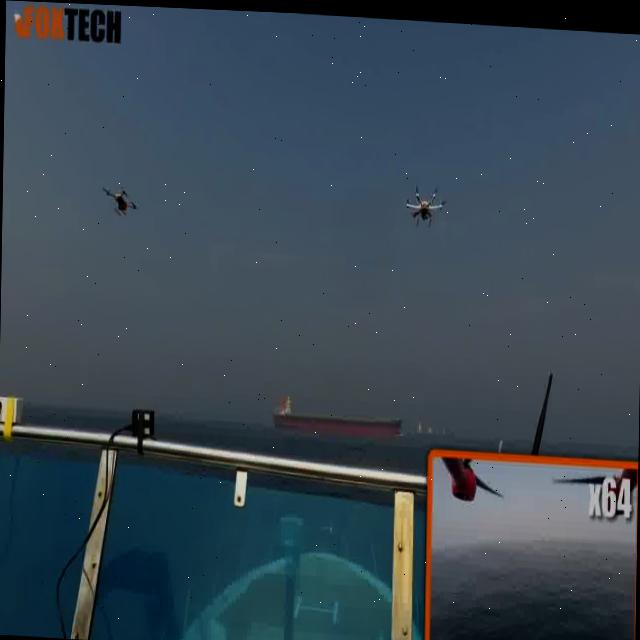drone: (400, 160, 451, 229), (100, 172, 138, 221)
